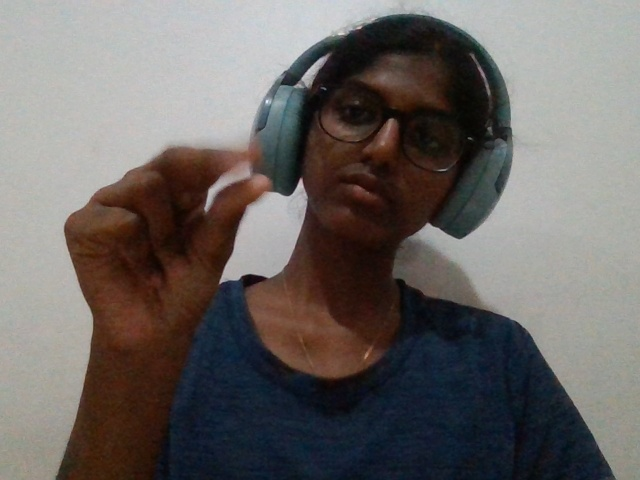No: (42, 125, 301, 381)
